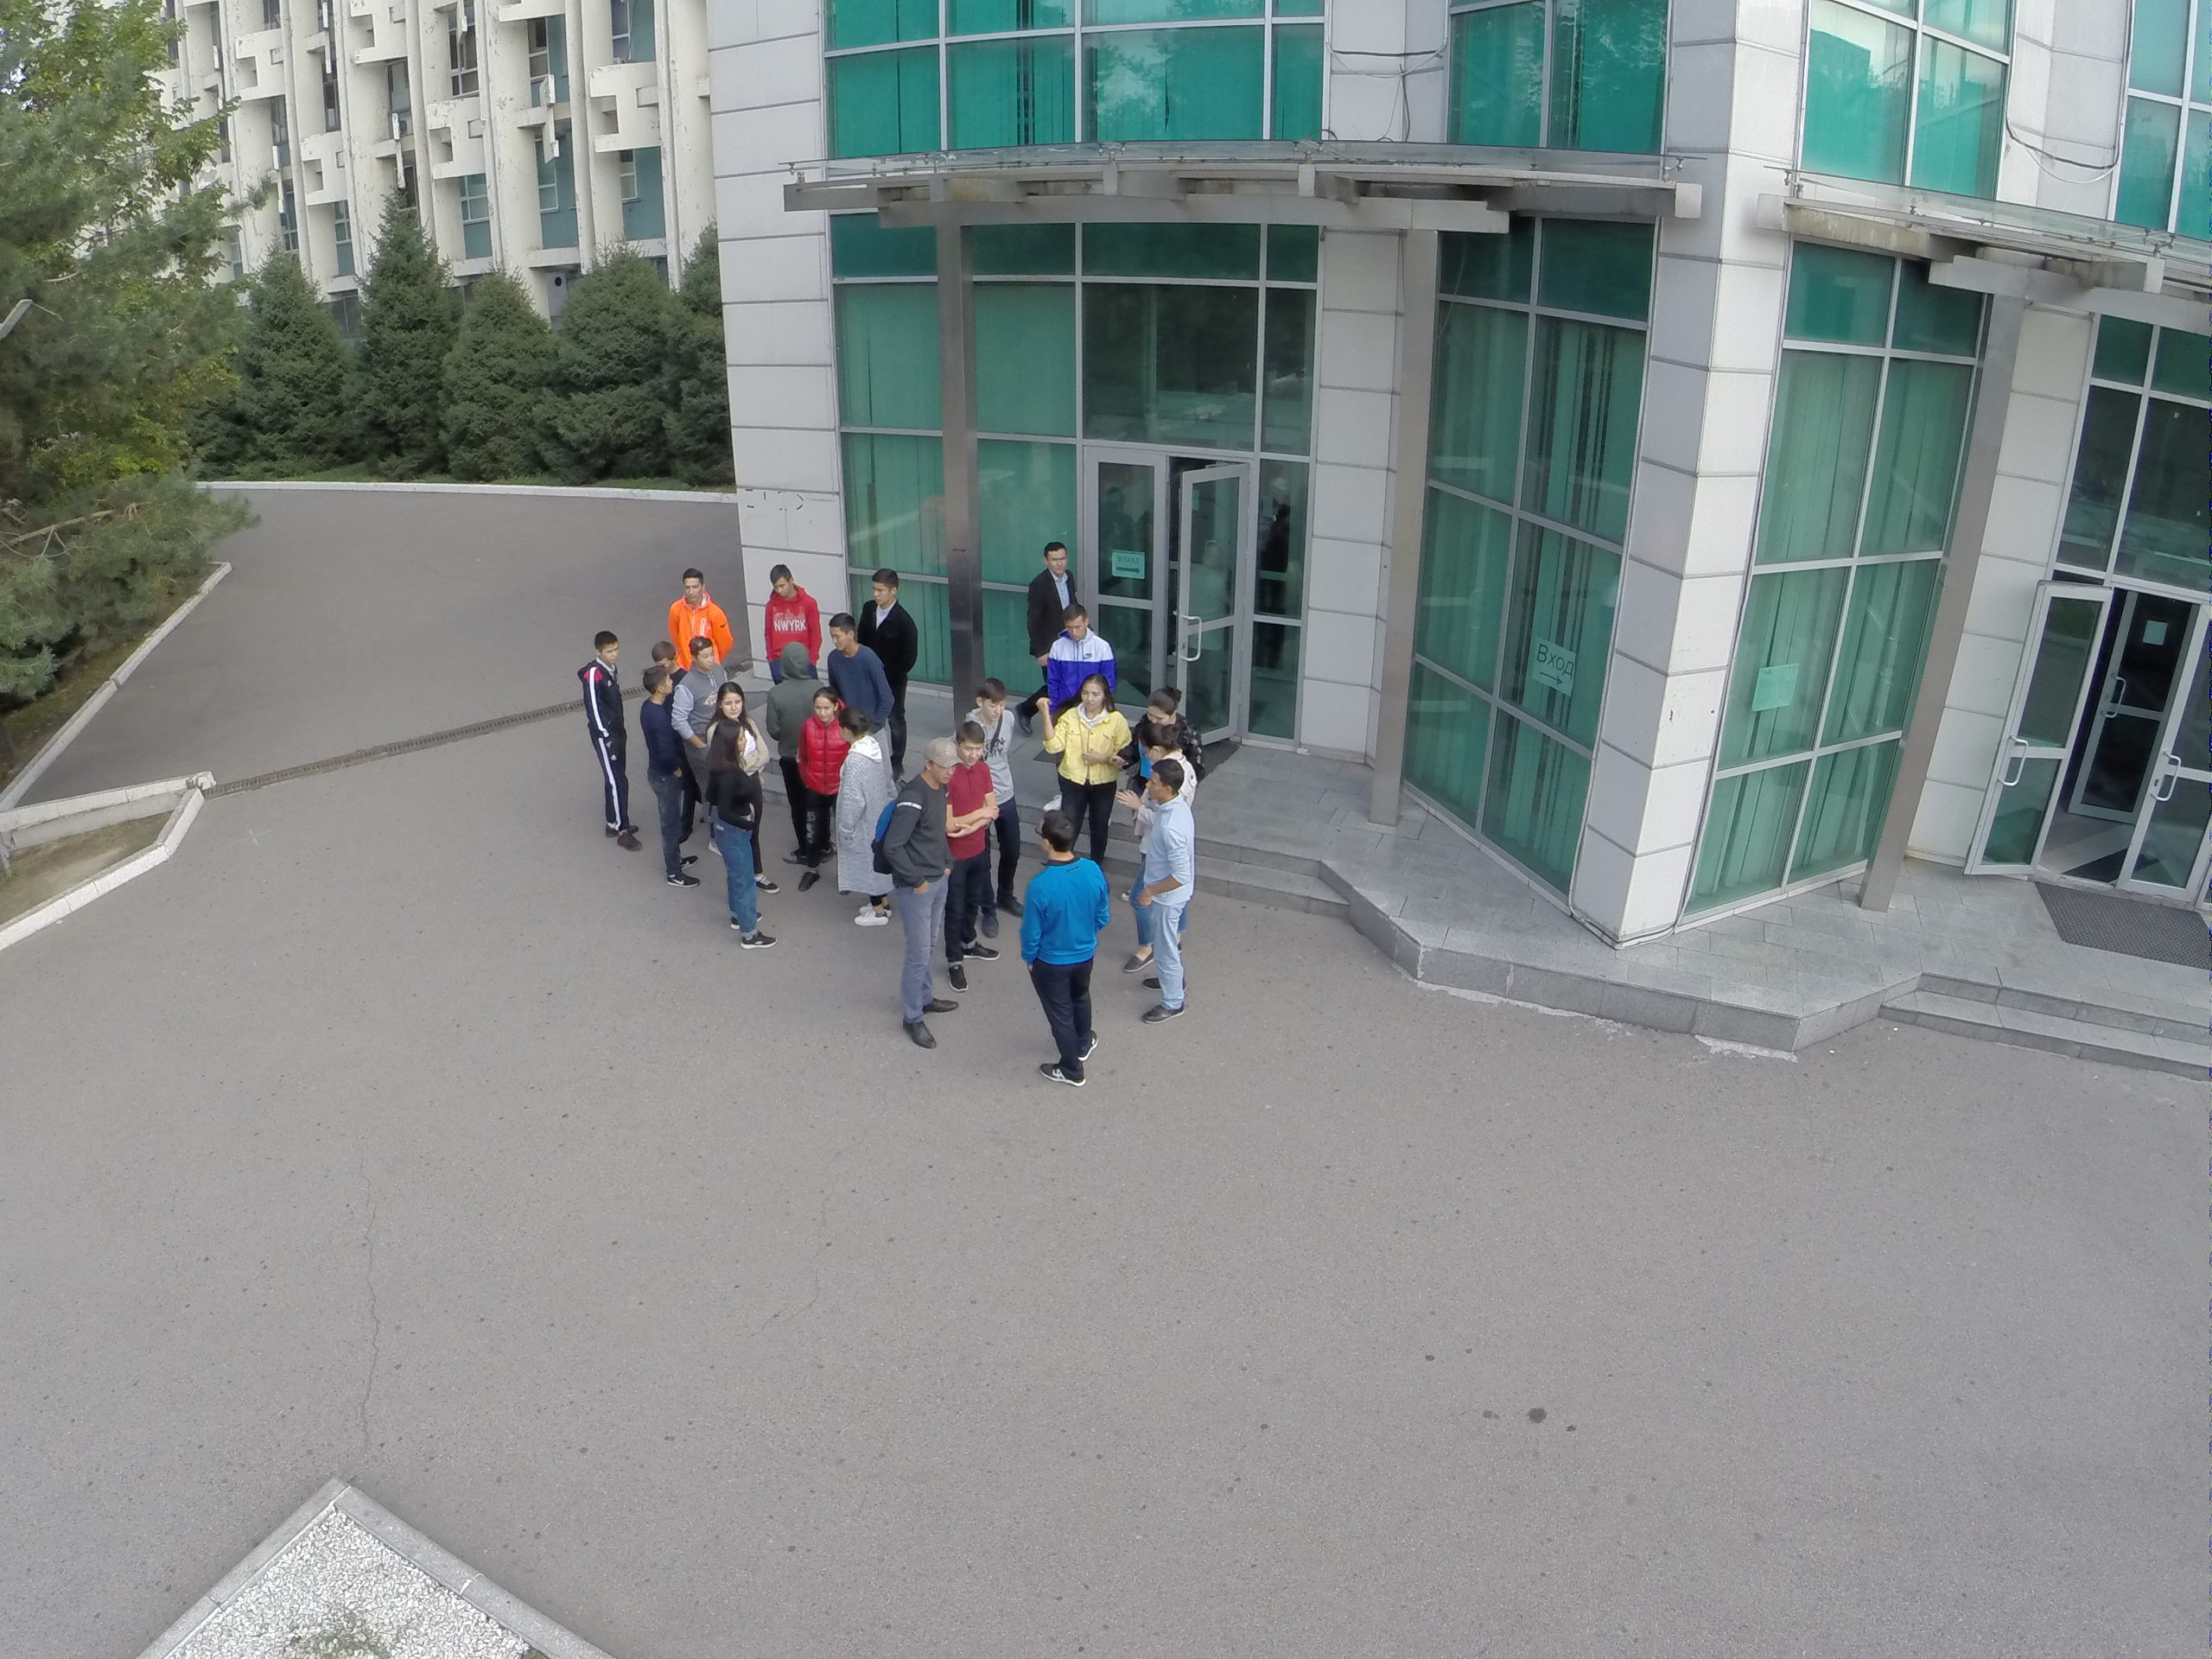person: (881, 735, 963, 1056), (1017, 812, 1109, 1096), (1126, 758, 1192, 1026), (628, 671, 703, 889), (702, 728, 773, 955), (944, 726, 1001, 983), (583, 627, 643, 858), (1042, 678, 1122, 835), (767, 655, 818, 871), (826, 620, 893, 724), (756, 563, 825, 652), (1046, 607, 1116, 683), (671, 566, 736, 643), (857, 566, 915, 650), (1033, 541, 1082, 607), (797, 685, 844, 739), (679, 632, 724, 681), (711, 680, 753, 727), (1139, 687, 1185, 727)
